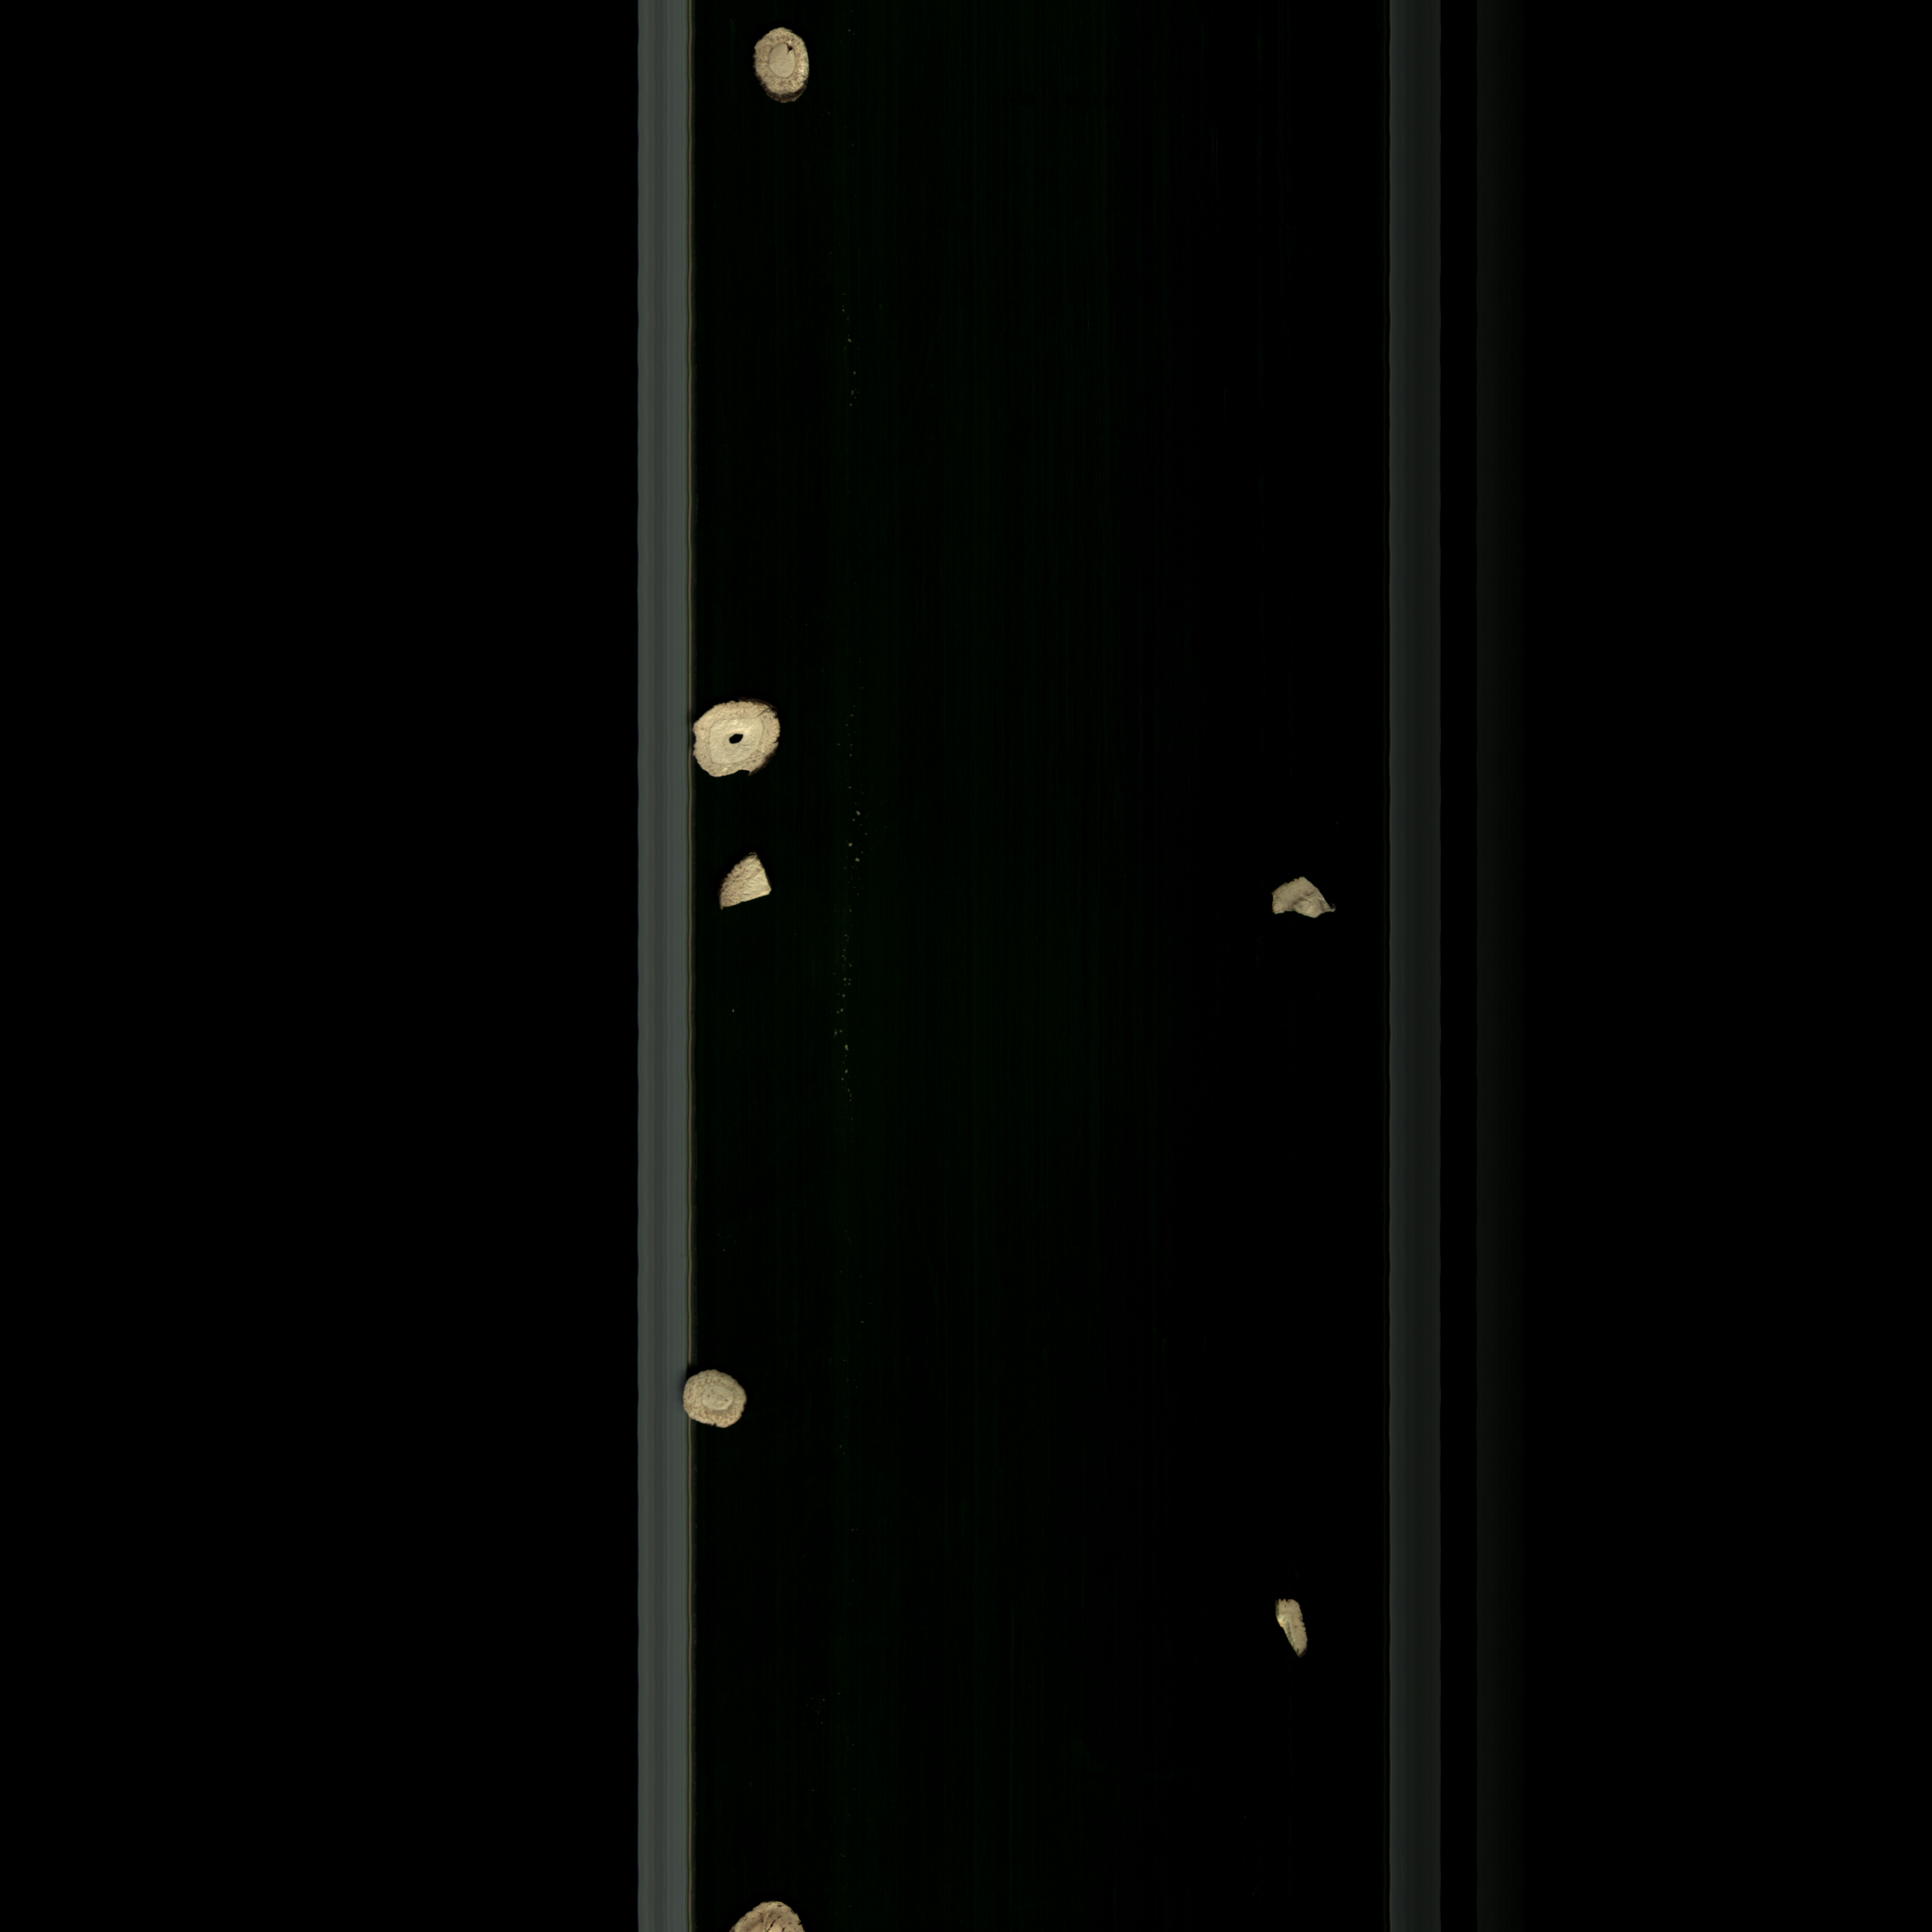dreg: (1251, 863, 1346, 929), (708, 846, 787, 911), (1261, 1589, 1311, 1670)
hole: (692, 695, 803, 789), (732, 16, 830, 122)
